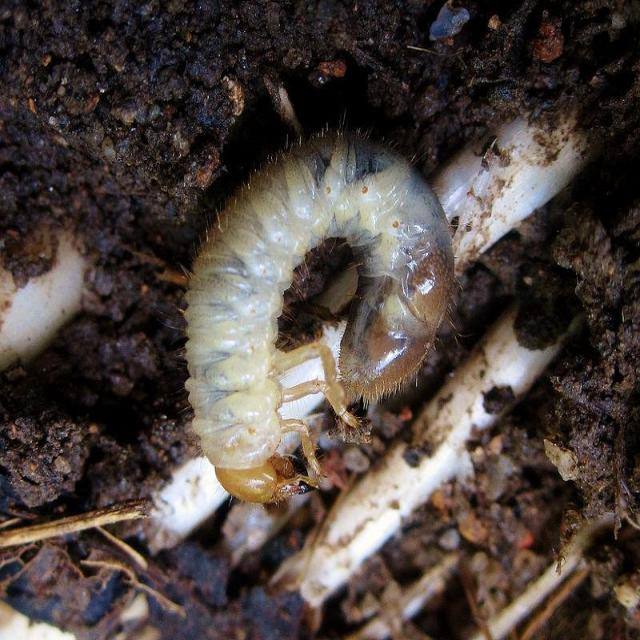grub: (174, 147, 449, 512)
